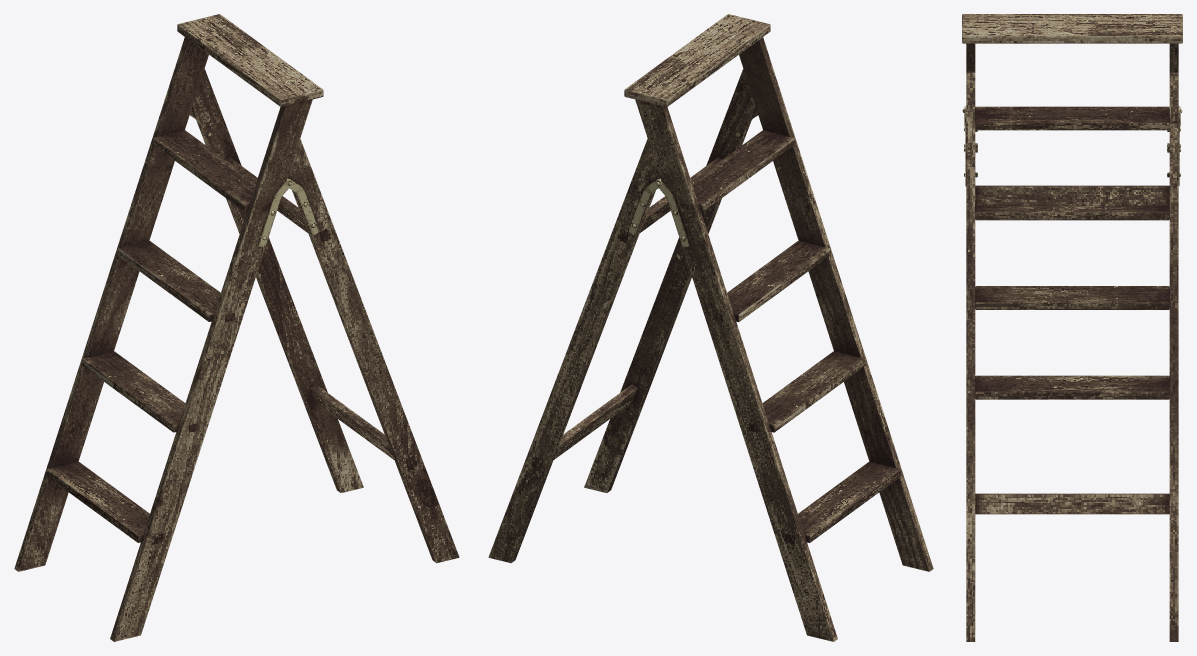
The model's file is wooden_ladder.glb.
3 renders of one model, left to right at view 1: azimuth 30°, elevation 25°; view 2: azimuth 150°, elevation 25°; view 3: azimuth 270°, elevation 25°, orthographic. The views are drawn at different scales.
Visible parts, largest first — view 1: body; view 2: body; view 3: body.
Boxes of the visible parts, <box> form: body: <box>14,14,459,641</box>; body: <box>488,14,933,641</box>; body: <box>962,14,1182,641</box>.
Size of the model in its own units: 0.9592 by 1.33 by 0.5.
Materials: 1 (1 with a texture image).
